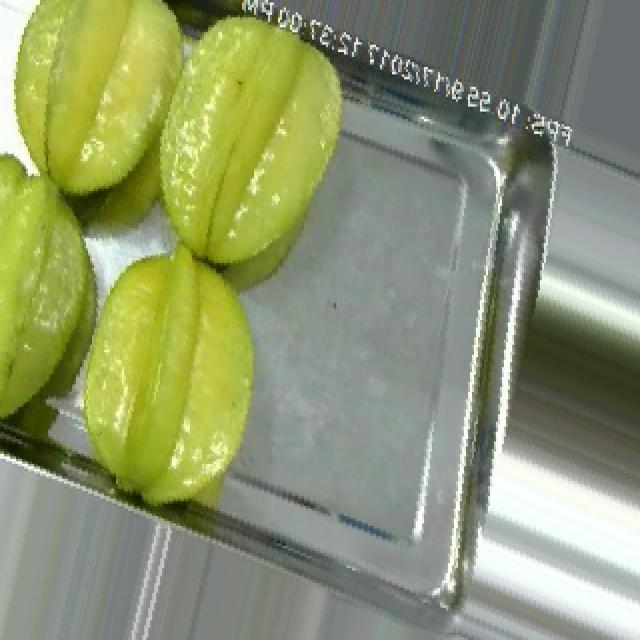fruit: (62, 0, 372, 303), (42, 224, 304, 538), (0, 134, 136, 449)
